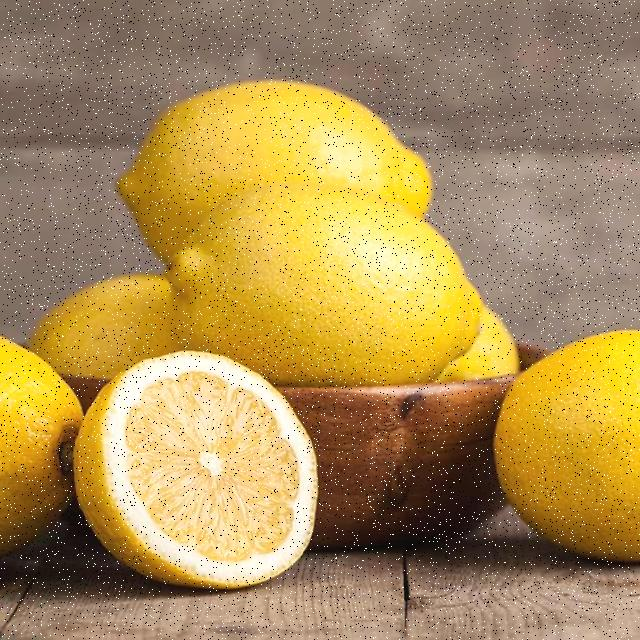Lemon: (167, 183, 481, 387), (73, 352, 317, 590), (117, 80, 432, 259), (495, 331, 640, 563), (0, 338, 83, 556), (30, 276, 179, 382), (436, 305, 520, 382)
